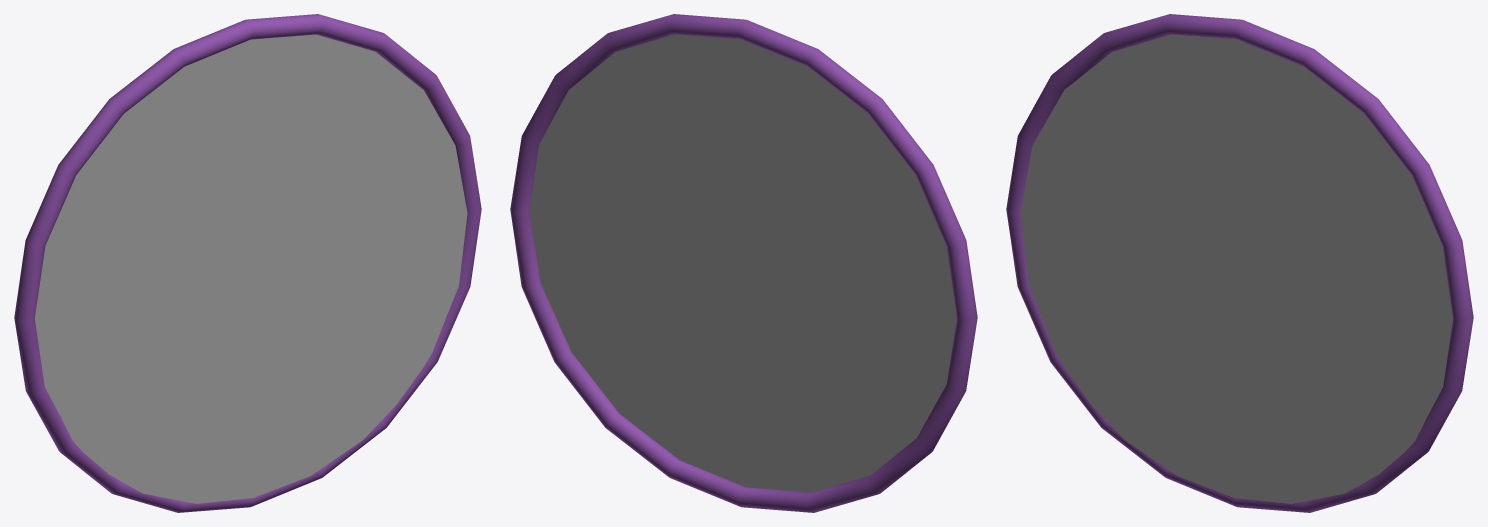
File: FinishGate.fbx
3 renders of one model, left to right at view 1: azimuth 30°, elevation 25°; view 2: azimuth 150°, elevation 25°; view 3: azimuth 330°, elevation 25°, orthographic.
Visible parts, largest first — view 1: Gate; view 2: Gate; view 3: Gate.
Boxes of the visible parts, x1,y1,x2,y2 form: Gate: (14, 14, 481, 512); Gate: (510, 14, 977, 512); Gate: (1006, 14, 1473, 512).
Size of the model in its own units: 10.4 by 10.4 by 0.4156.
